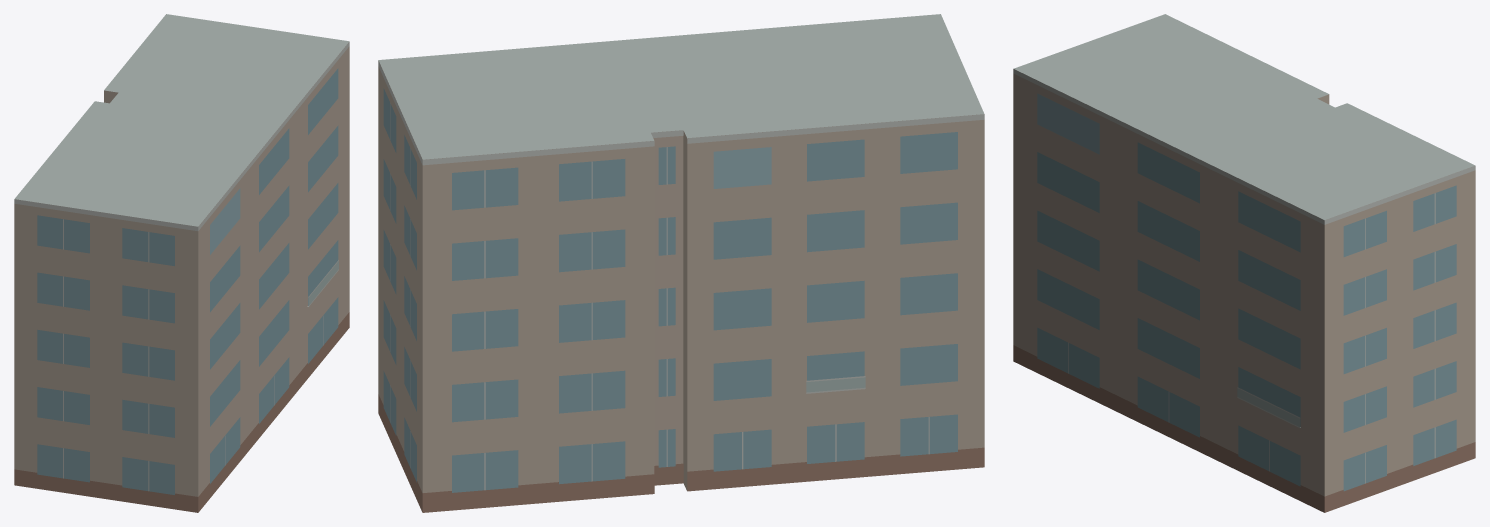
Rendered from survey-upis-32626497.glb.
The picture shows the model from 3 angles, left to right: view 1: azimuth 30°, elevation 25°; view 2: azimuth 150°, elevation 25°; view 3: azimuth 270°, elevation 25°; orthographic projection. The views are drawn at different scales.
Visible parts, largest first — view 1: survey-upis-32626497.tmp; view 2: survey-upis-32626497.tmp; view 3: survey-upis-32626497.tmp.
Boxes of the visible parts, x1,y1,x2,y2 form: survey-upis-32626497.tmp: (14,14,349,512); survey-upis-32626497.tmp: (378,14,984,512); survey-upis-32626497.tmp: (1013,14,1475,512).
Size of the model in its own units: 23.05 by 15.25 by 21.83.
